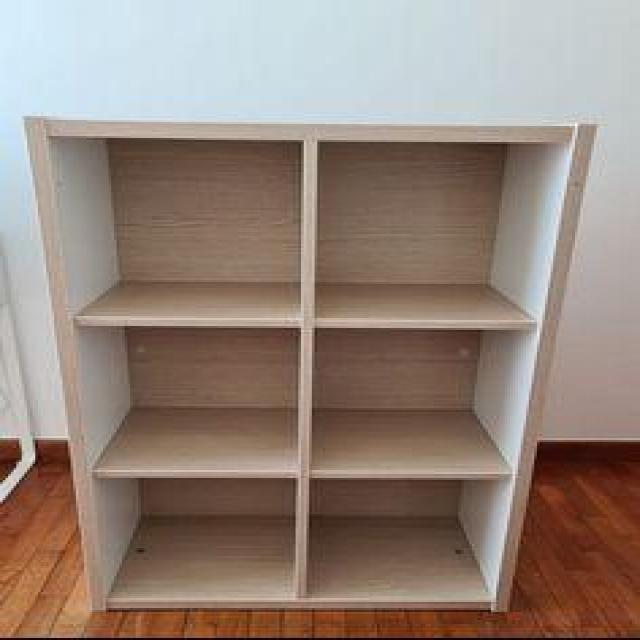Shelf: (21, 112, 607, 618)
